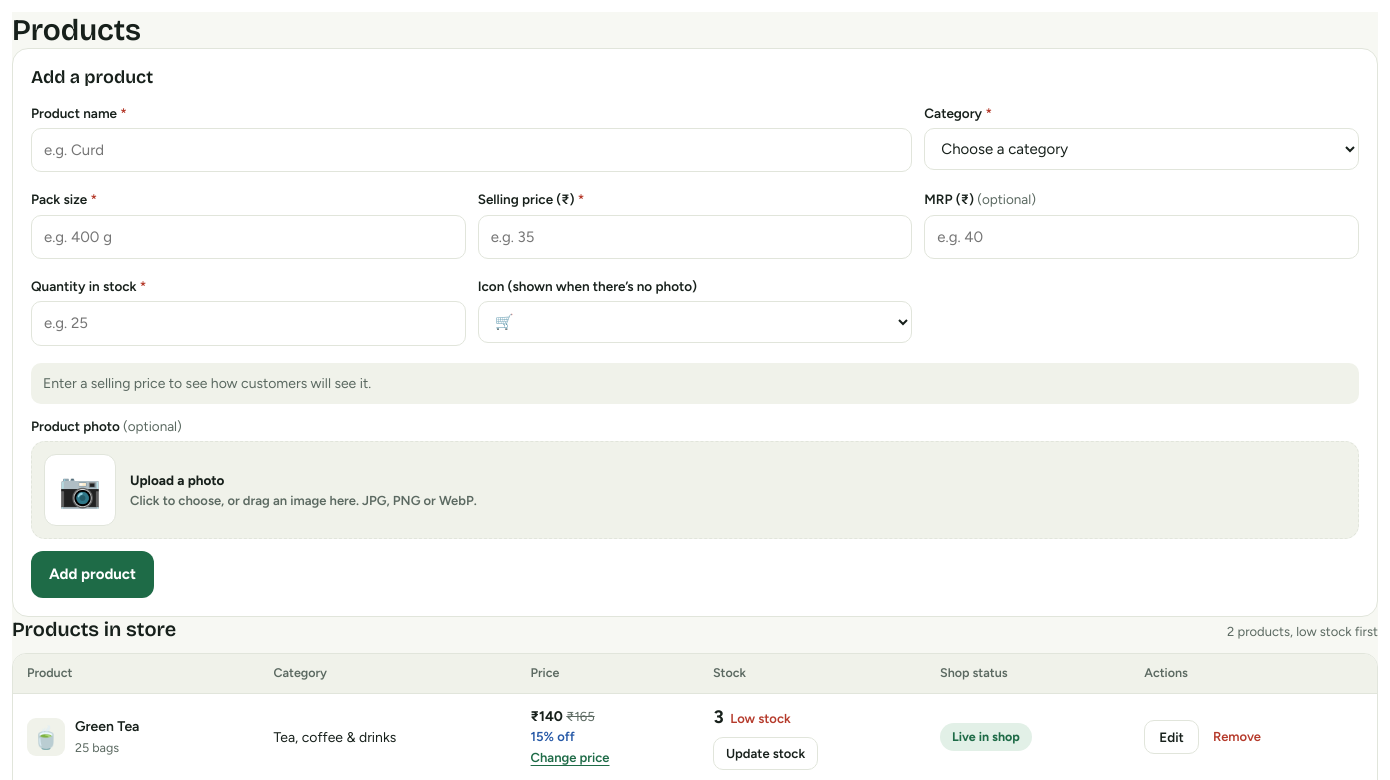
Test: Admin > Products › adds a product with the right details
The width and height of the screenshot is (1390, 780).
Later steps or results of the test are not shown.
Type "Curd" into the field labelled "Product name *" at [472, 150], box x1=31 y1=128 x2=912 y2=172
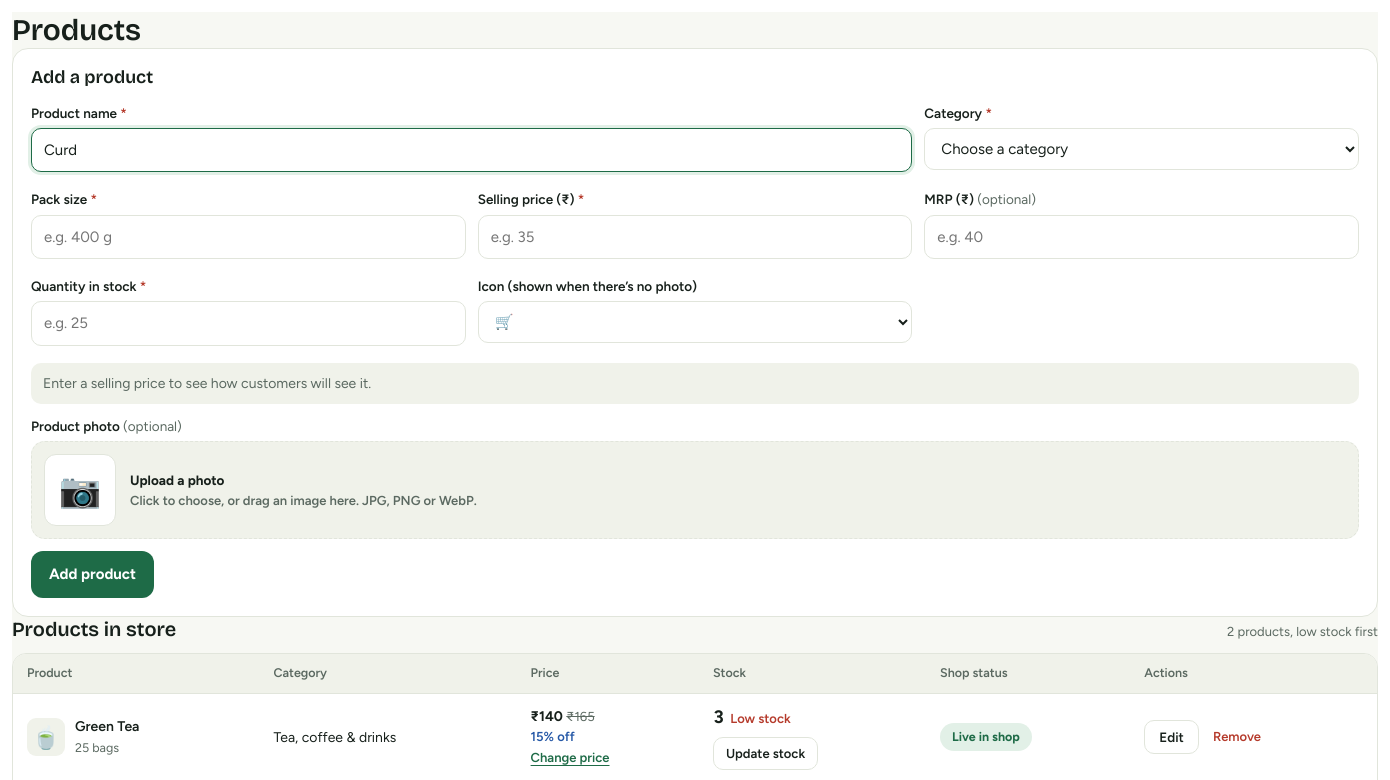
Select "Dairy, bread & eggs" in the dropdown labelled "Category *" at [1142, 149], box x1=924 y1=128 x2=1359 y2=170
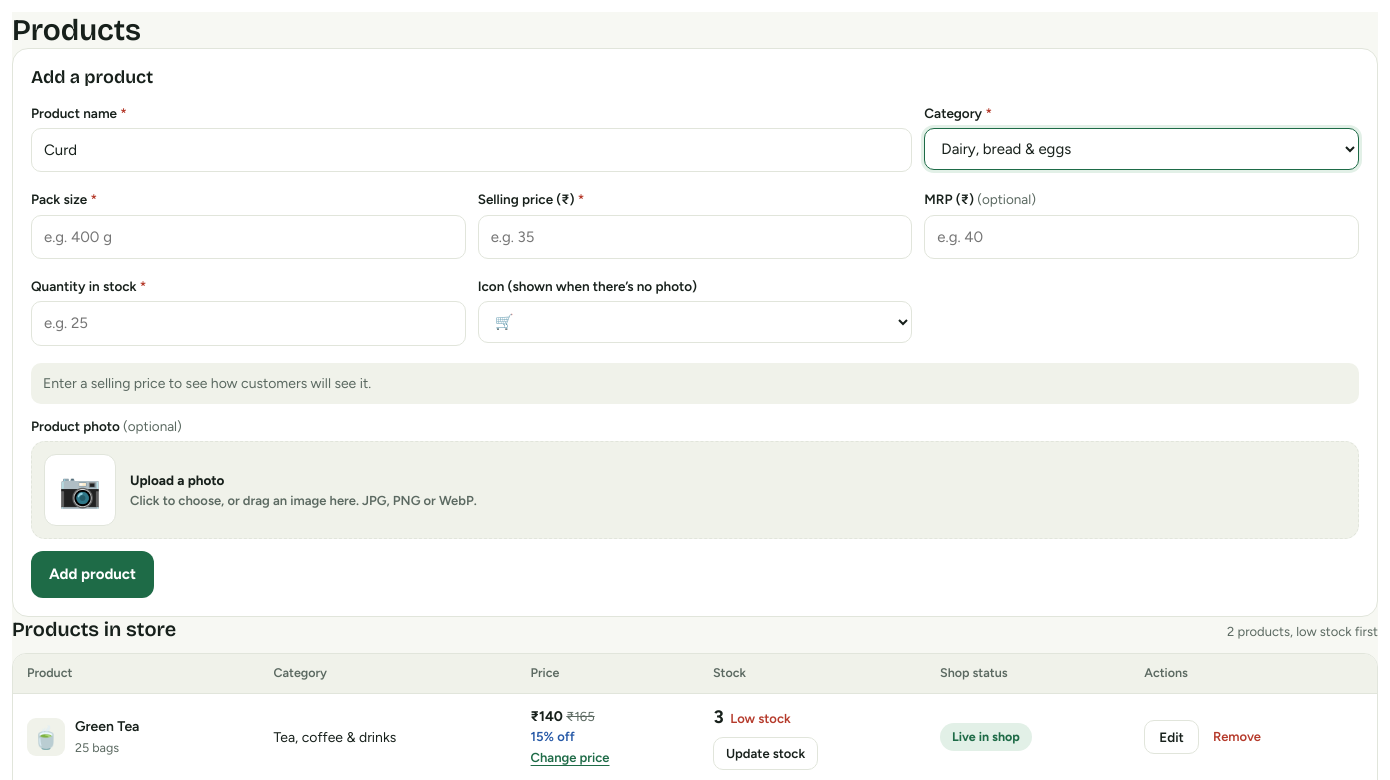
Type "400 g" into the field labelled "Pack size *" at [248, 237], box x1=31 y1=215 x2=466 y2=259
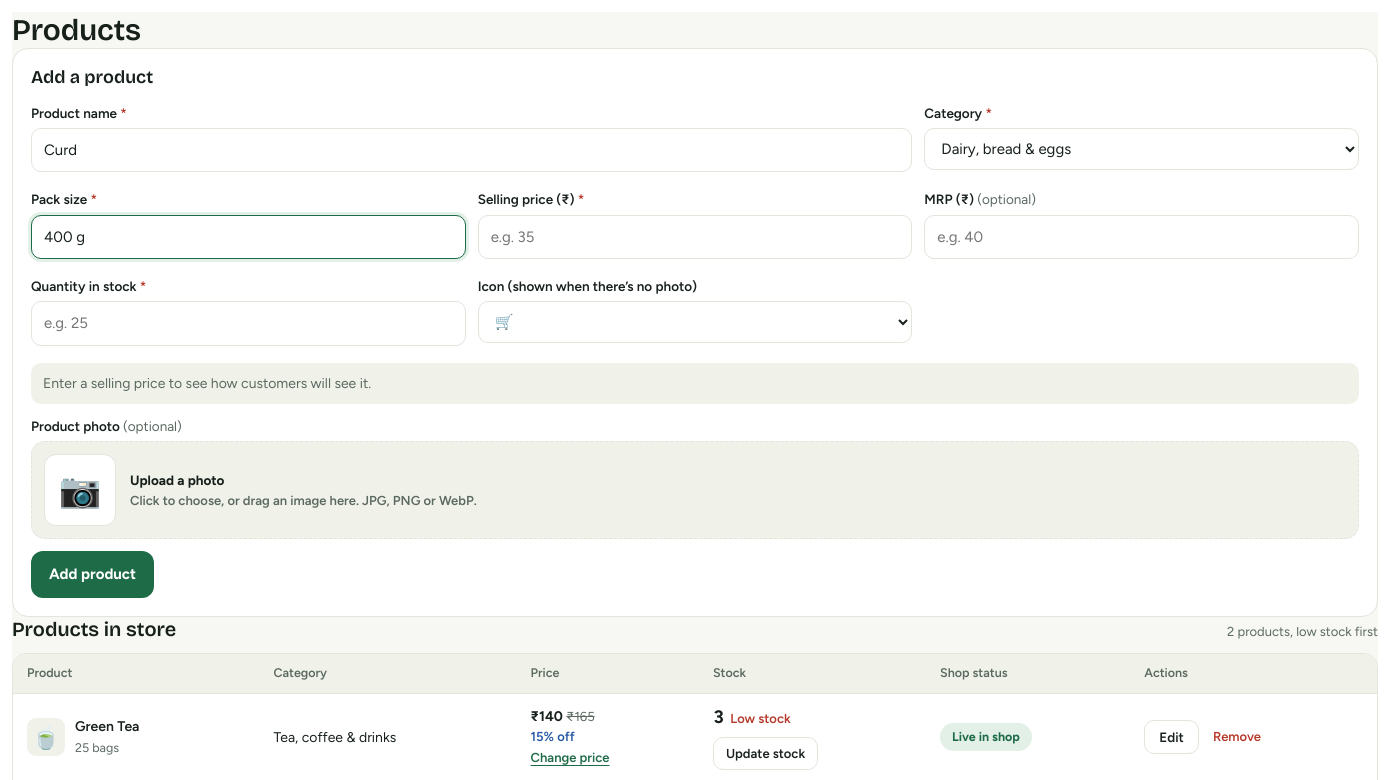
Type "35" into the field labelled "Selling price (₹) *" at [695, 237], box x1=478 y1=215 x2=912 y2=259
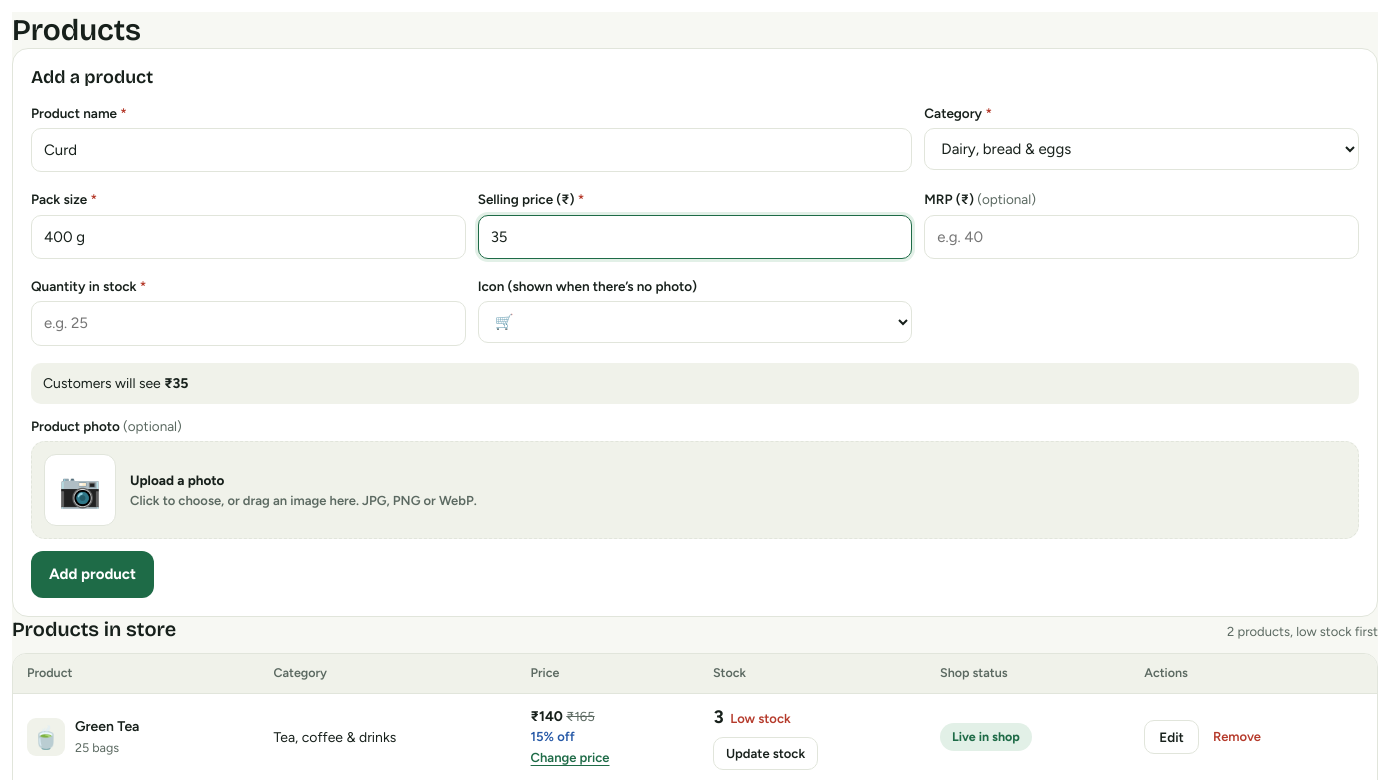
Type "40" into the field labelled "MRP (₹) (optional)" at [1142, 237], box x1=924 y1=215 x2=1359 y2=259
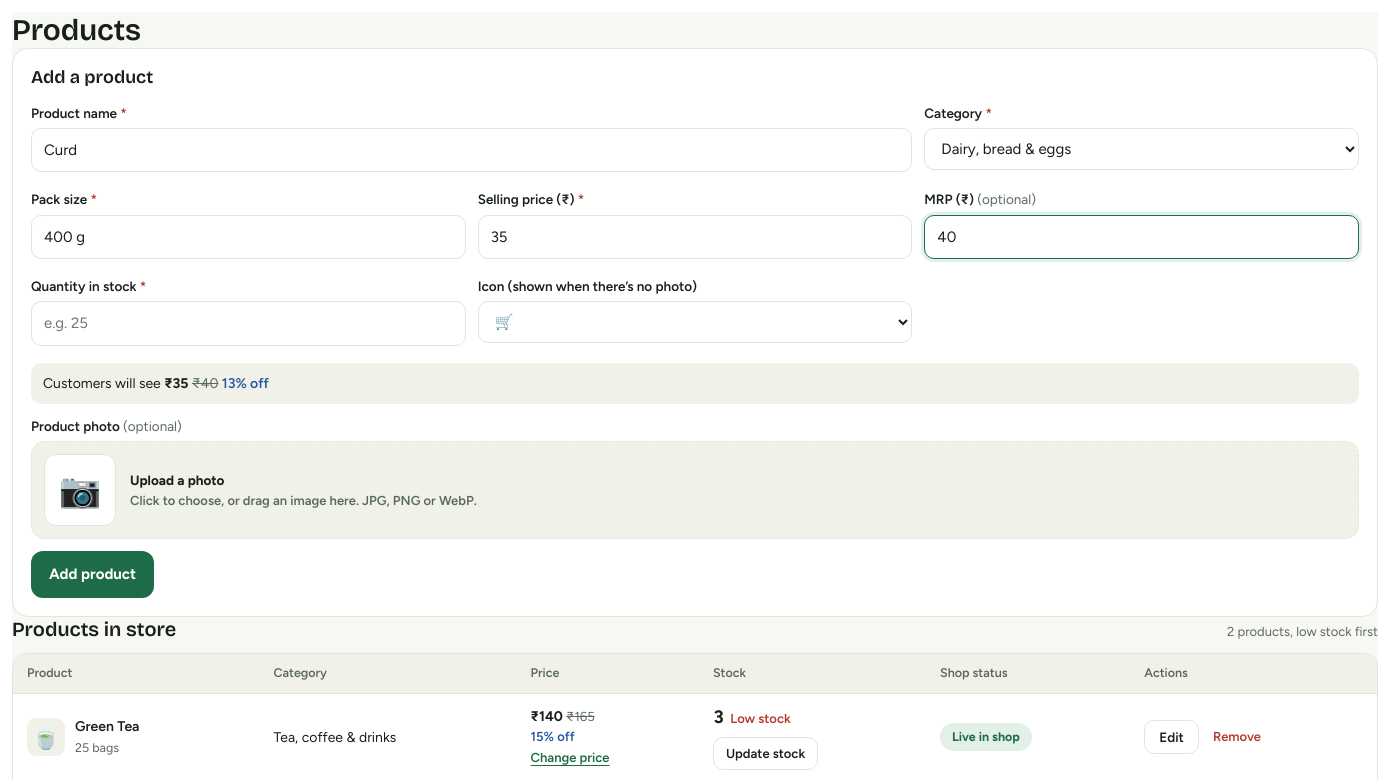
Expected: the text "13% off" is shown, x1=222 y1=375 x2=269 y2=392
